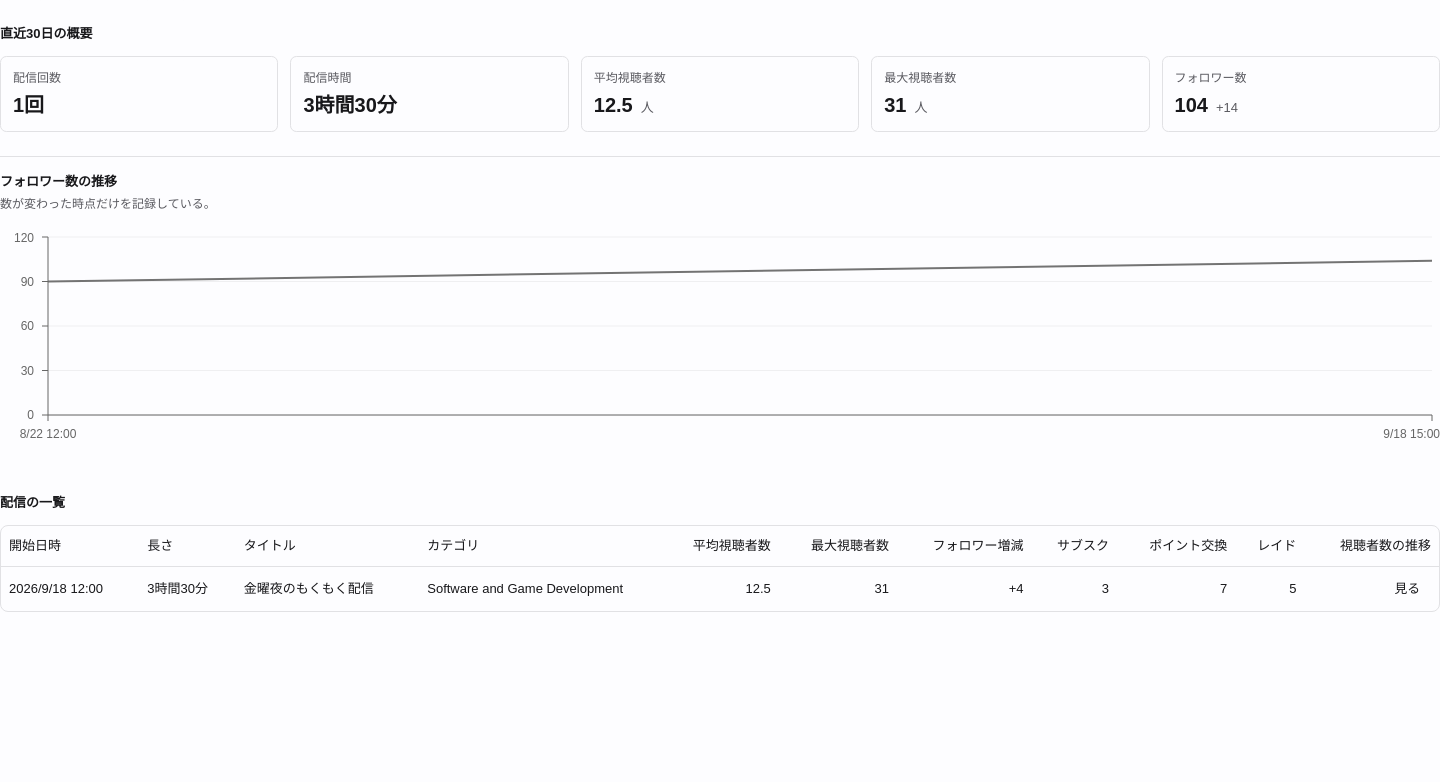
it: 配信ごとの詳細（視聴者数の推移と話されたこと） › 章もあらすじも無い配信では、記録が無いことを伝える（何も出さないと、読み込めていないのと見分けられないため）
Expected: the table named "配信の一覧" is shown, [1,526,1439,611]
Click the button with aria-label "金曜夜のもくもく配信 の詳細を見る". click: click(1407, 589)
box: [1383,575,1431,603]
(page scrolled)
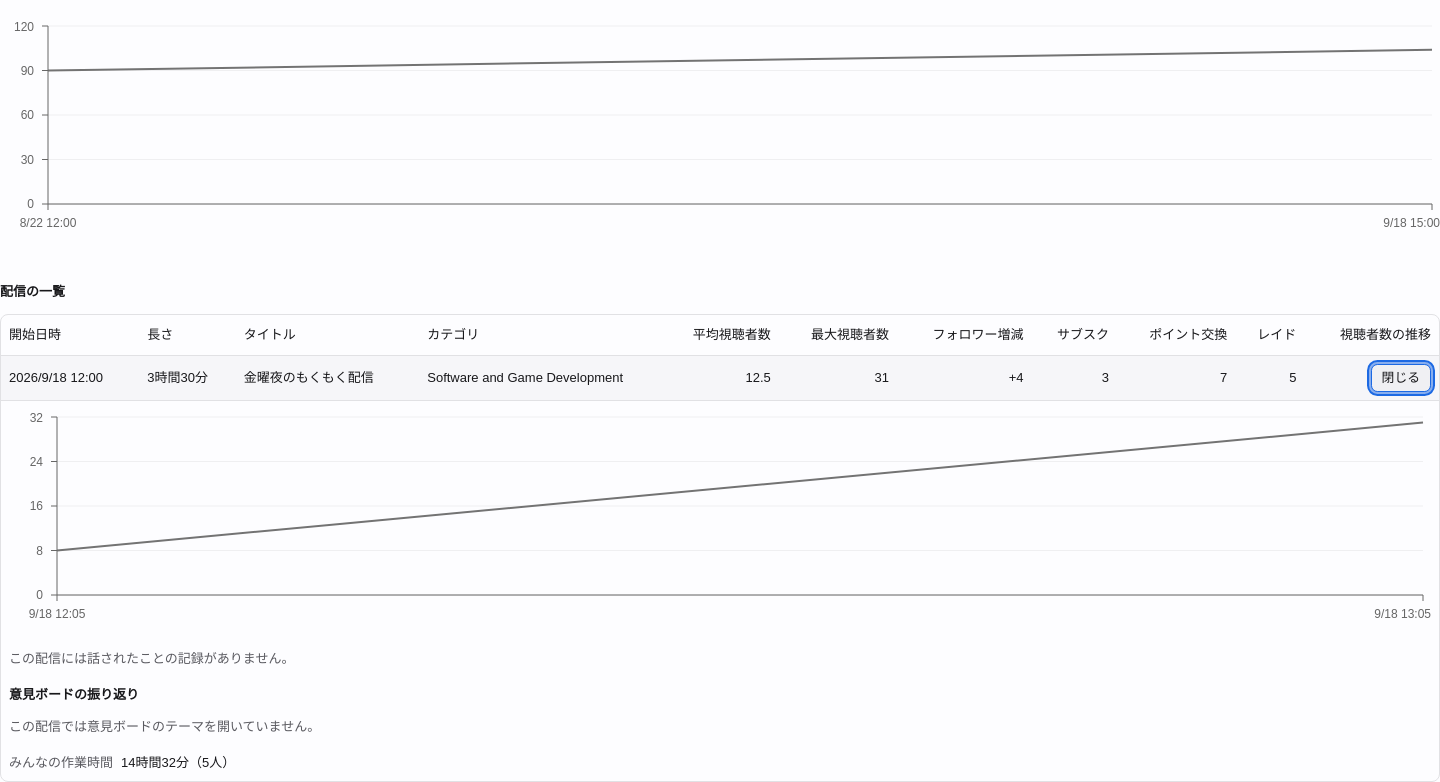
Result: the text "この配信には話されたことの記録がありません。" is shown at [9,651,294,666]
